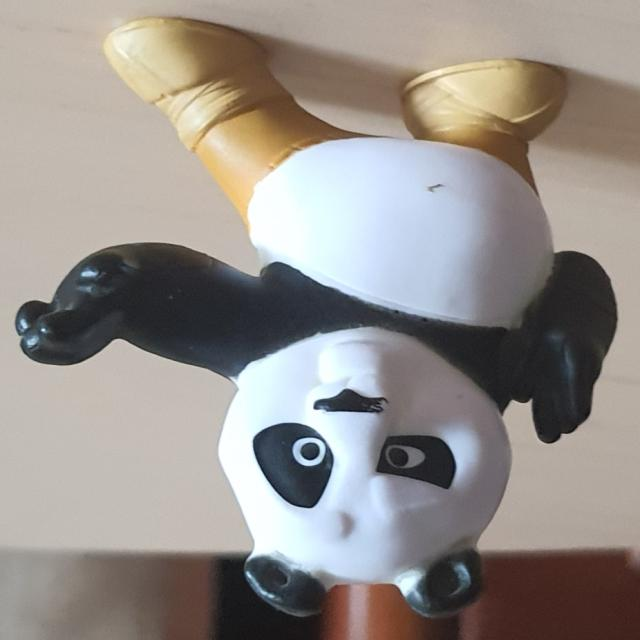Panda: (14, 17, 618, 620)
